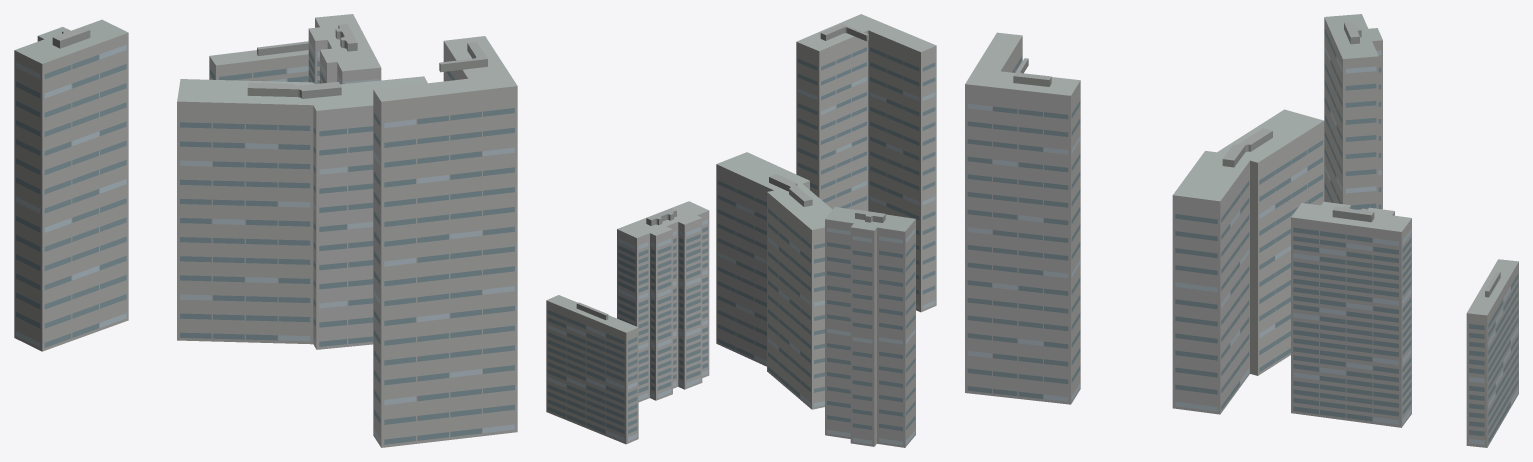
Rendered from apt-a13790726.glb.
3 views of the same model, side by side, from view 1: azimuth 30°, elevation 25°; view 2: azimuth 150°, elevation 25°; view 3: azimuth 270°, elevation 25° (orthographic). The views are drawn at different scales.
Visible parts, largest first — view 1: apt-a13790726; view 2: apt-a13790726; view 3: apt-a13790726.
Boxes of the visible parts, left/top/right/bottom form: apt-a13790726: left=14, top=14, right=517, bottom=447; apt-a13790726: left=546, top=14, right=936, bottom=447; apt-a13790726: left=965, top=14, right=1518, bottom=447.
Size of the model in its own units: 131 by 109 by 173.
